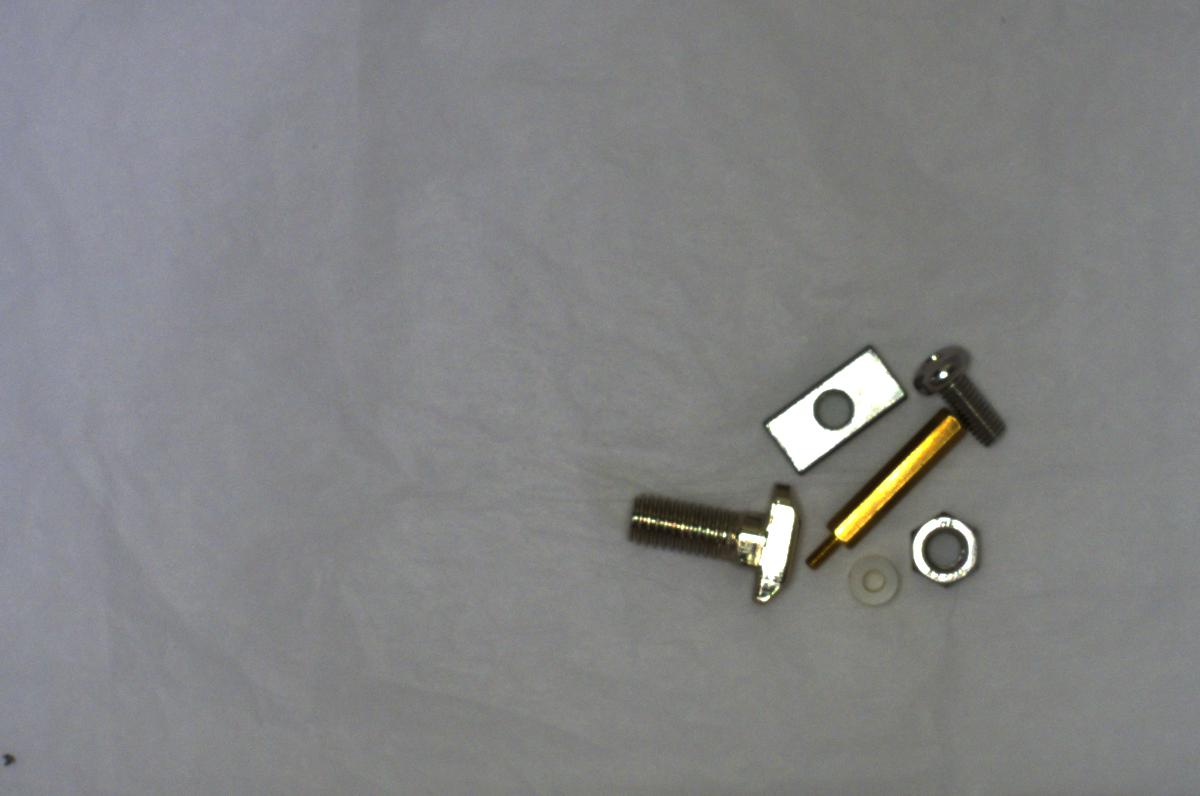Hexagon nut: (905, 507, 984, 588)
Hexagon pillar: (806, 407, 966, 573)
Plastic cushion pillar: (842, 542, 904, 620)
Rectangular nut: (759, 342, 908, 472)
Round head screw: (902, 338, 1013, 447)
T-shaped screw: (622, 468, 811, 616)
